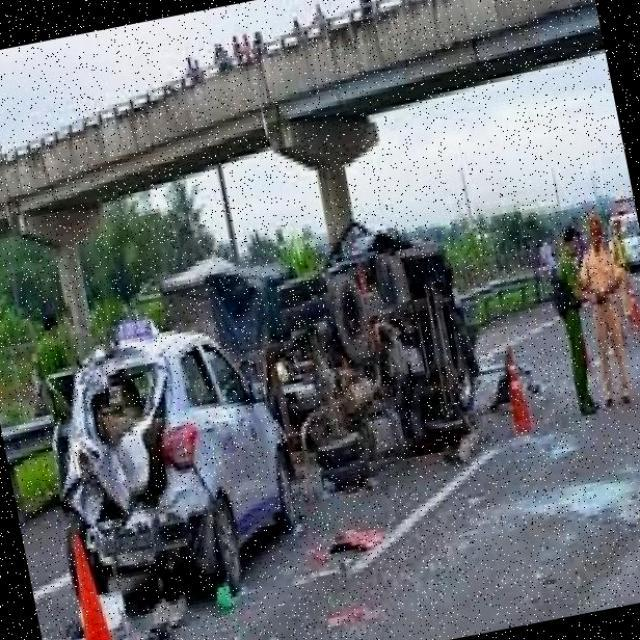accident: (21, 235, 523, 612)
